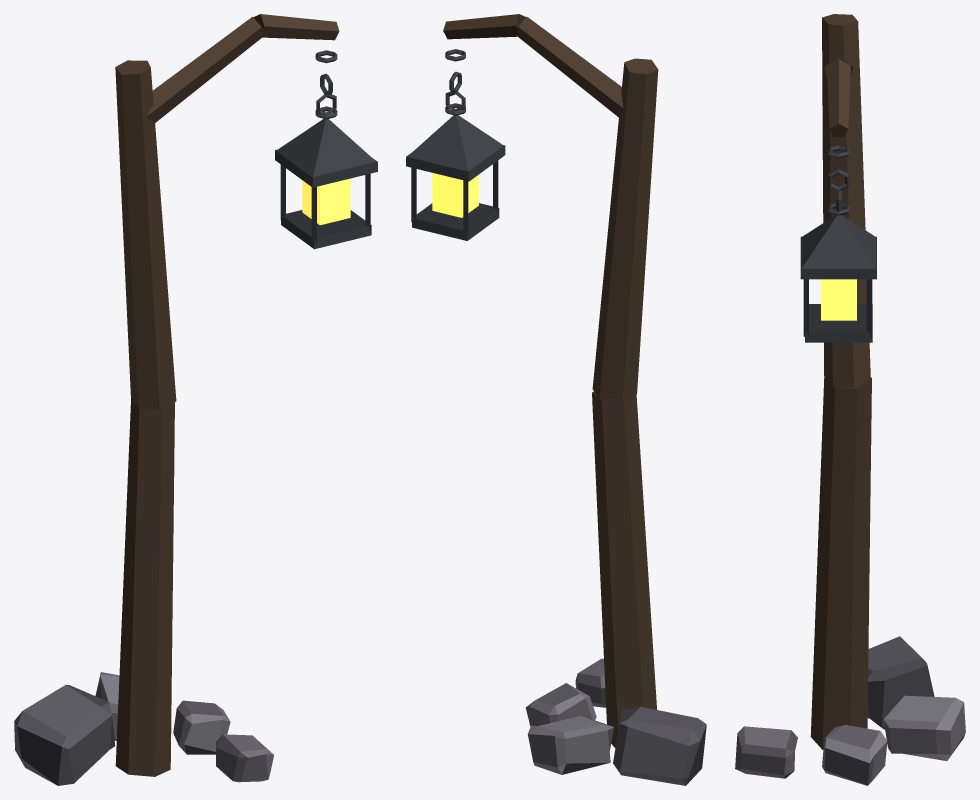
File: plot_lantern.glb
The picture shows the model from 3 angles, left to right: view 1: azimuth 30°, elevation 25°; view 2: azimuth 150°, elevation 25°; view 3: azimuth 270°, elevation 25°; orthographic projection. The views are drawn at different scales.
Parts seen in each view (by area): view 1: PlotLantern; view 2: PlotLantern; view 3: PlotLantern.
Boxes of the visible parts, x1=… form: PlotLantern: x1=14, y1=14, x2=377, y2=785; PlotLantern: x1=406, y1=14, x2=706, y2=785; PlotLantern: x1=735, y1=14, x2=965, y2=785.
Size of the model in its own units: 0.8197 by 1.82 by 0.5121.
